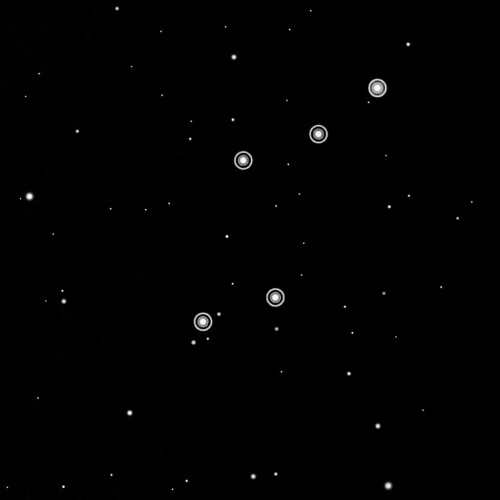lyra: (191, 73, 388, 334)
